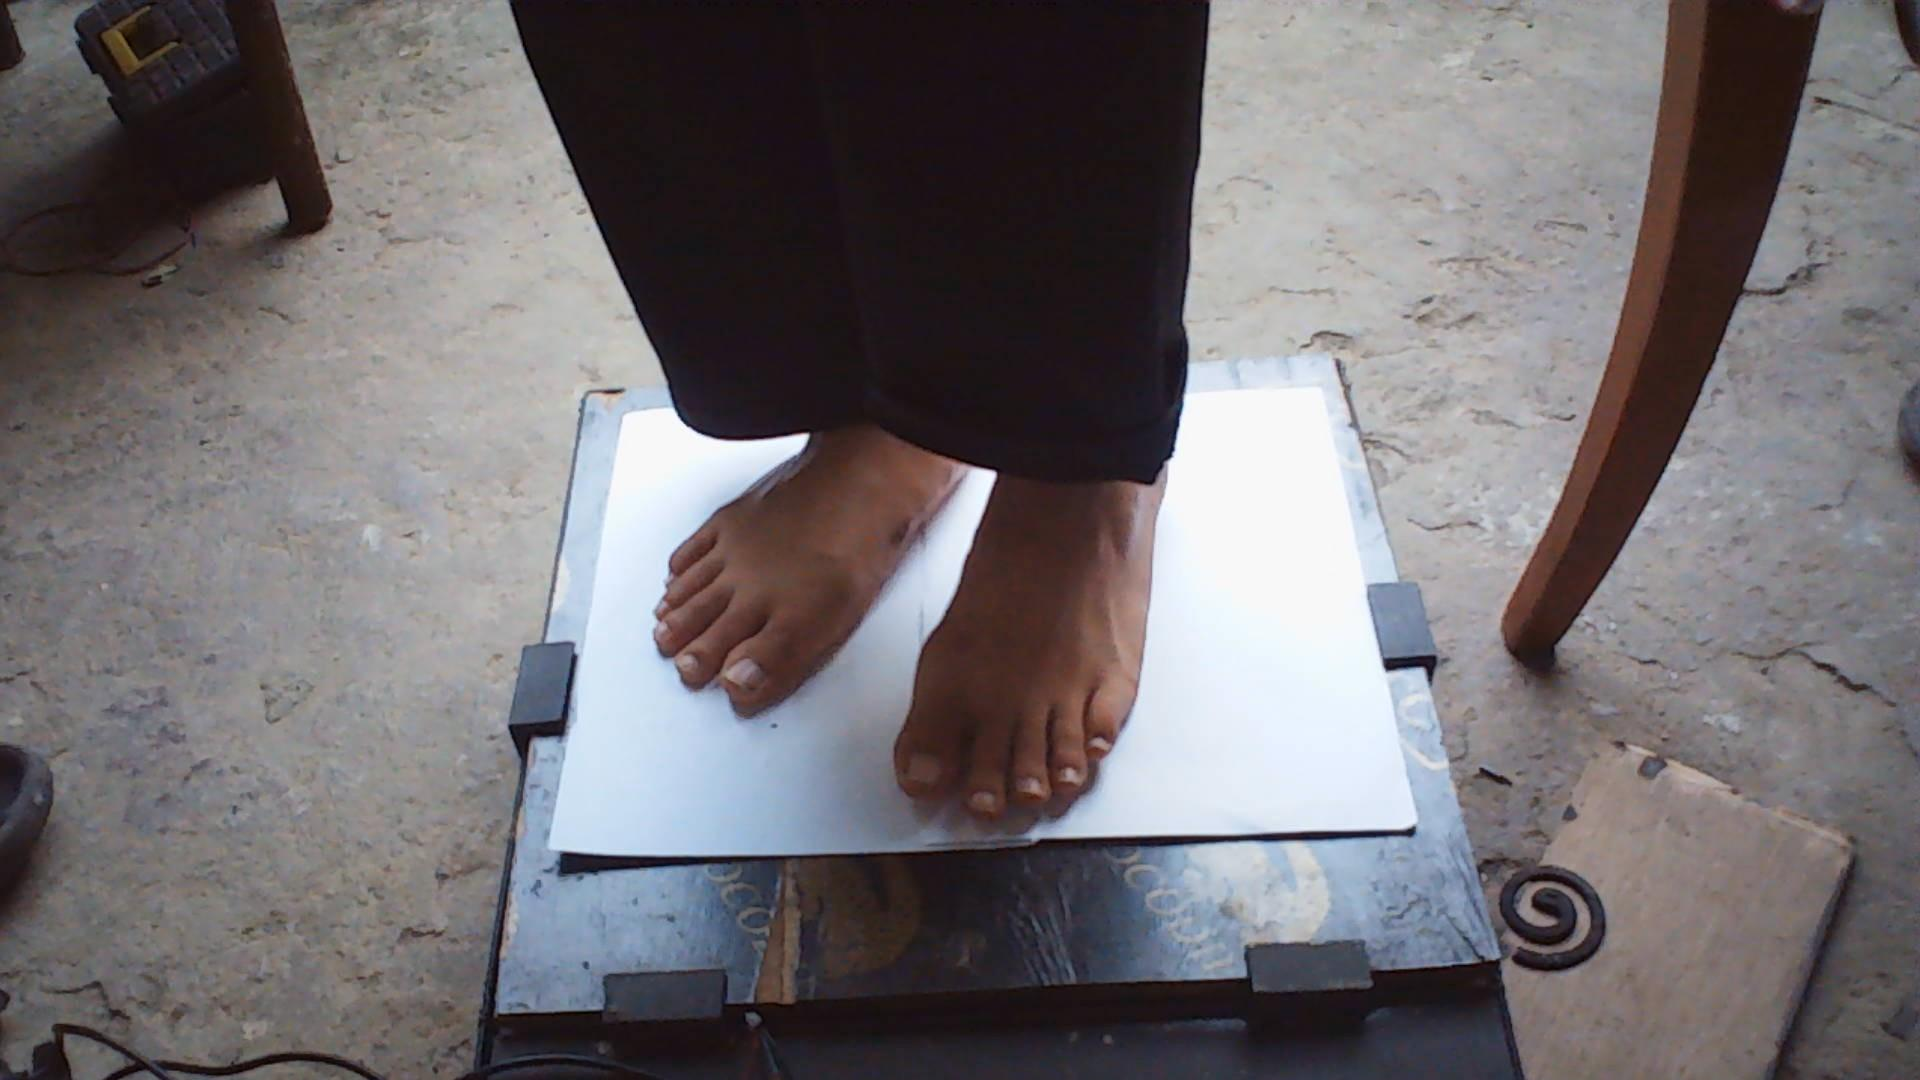Bare_feet: (634, 456, 1193, 839)
